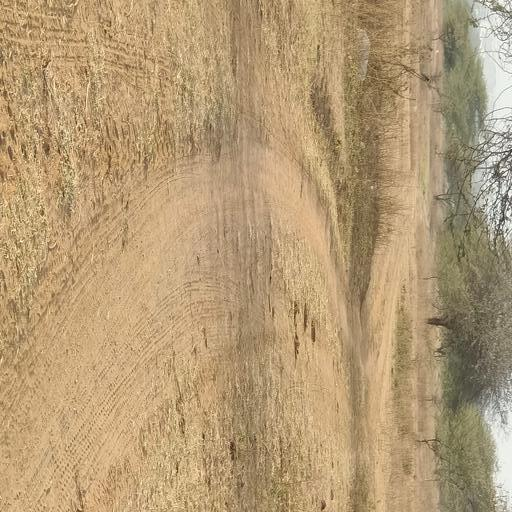vehicle_track: (0, 143, 348, 512)
